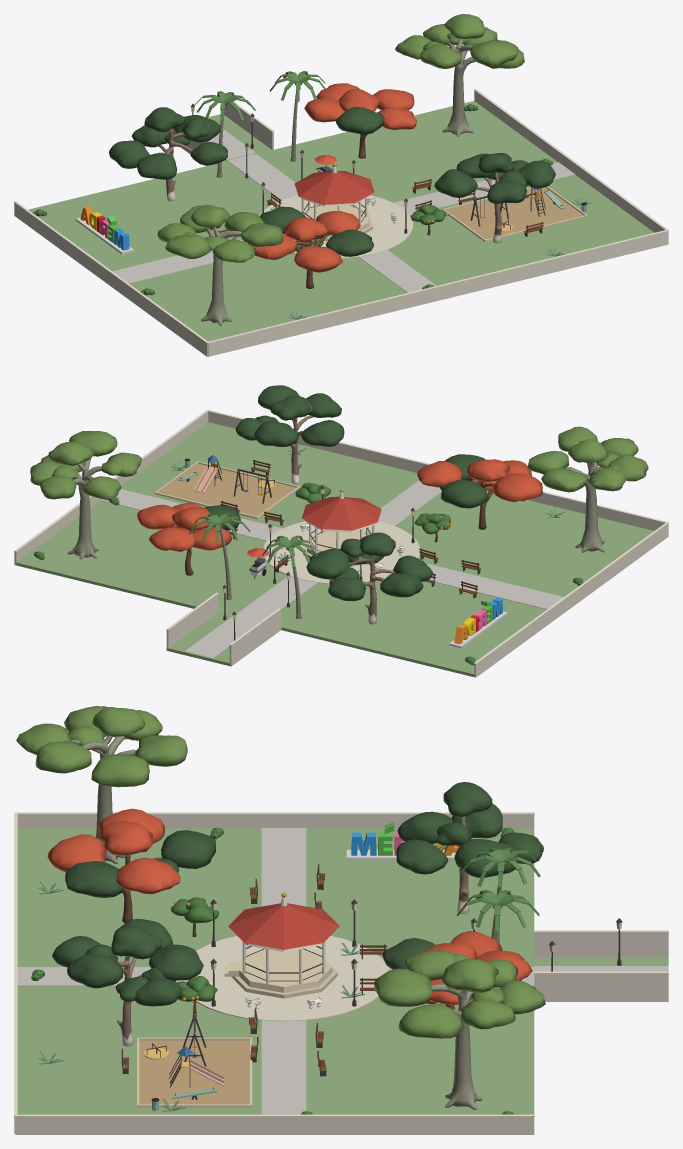
File: barrio_parque.glb
The picture shows the model from 3 angles, top to bottom: view 1: azimuth 30°, elevation 25°; view 2: azimuth 150°, elevation 25°; view 3: azimuth 270°, elevation 25°; orthographic projection. The views are drawn at different scales.
Visible parts, largest first — view 1: parque_pasto, parque_fachadas, parque_laurel_copa, parque_ceiba_copa, parque_flamboyan_copa, parque_andador, parque_arenero, parque_pasta, parque_palma_copa, parque_herreria, parque_greca, parque_naranjo_copa (+1 smaller); view 2: parque_pasto, parque_fachadas, parque_laurel_copa, parque_ceiba_copa, parque_flamboyan_copa, parque_andador, parque_arenero, parque_pasta, parque_herreria, parque_banqueta, parque_palma_copa, parque_naranjo_copa (+2 smaller); view 3: parque_pasto, parque_fachadas, parque_laurel_copa, parque_ceiba_copa, parque_andador, parque_flamboyan_copa, parque_pasta, parque_arenero, parque_herreria, parque_palma_copa, parque_naranjo_copa, parque_greca (+1 smaller).
Boxes of the visible parts, bbox=[...] form: parque_pasto: bbox=[28, 101, 654, 341]; parque_fachadas: bbox=[14, 39, 668, 356]; parque_laurel_copa: bbox=[109, 107, 555, 256]; parque_ceiba_copa: bbox=[157, 14, 524, 262]; parque_flamboyan_copa: bbox=[248, 83, 417, 272]; parque_andador: bbox=[112, 153, 575, 292]; parque_arenero: bbox=[446, 187, 583, 239]; parque_pasta: bbox=[259, 195, 413, 258]; parque_palma_copa: bbox=[195, 71, 326, 120]; parque_herreria: bbox=[190, 103, 562, 236]; parque_greca: bbox=[80, 206, 129, 250]; parque_naranjo_copa: bbox=[295, 204, 446, 251]; parque_pasto: bbox=[16, 422, 653, 676]; parque_fachadas: bbox=[14, 409, 668, 677]; parque_laurel_copa: bbox=[204, 385, 488, 601]; parque_ceiba_copa: bbox=[30, 426, 648, 500]; parque_flamboyan_copa: bbox=[137, 459, 542, 551]; parque_andador: bbox=[101, 480, 563, 620]; parque_arenero: bbox=[159, 463, 296, 516]; parque_pasta: bbox=[263, 521, 420, 584]; parque_herreria: bbox=[180, 460, 480, 640]; parque_banqueta: bbox=[184, 615, 260, 658]; parque_palma_copa: bbox=[189, 513, 317, 567]; parque_naranjo_copa: bbox=[295, 482, 450, 534]; parque_pasto: bbox=[17, 828, 668, 1114]; parque_fachadas: bbox=[14, 735, 668, 1134]; parque_laurel_copa: bbox=[52, 782, 543, 1006]; parque_ceiba_copa: bbox=[16, 706, 545, 1038]; parque_andador: bbox=[17, 828, 534, 1114]; parque_flamboyan_copa: bbox=[47, 808, 532, 1004]; parque_pasta: bbox=[179, 936, 388, 1021]; parque_arenero: bbox=[139, 1040, 249, 1104]; parque_herreria: bbox=[122, 864, 622, 1099]; parque_palma_copa: bbox=[456, 848, 540, 931]; parque_naranjo_copa: bbox=[171, 897, 219, 1001]; parque_greca: bbox=[351, 822, 459, 855].
Size of the model in its own units: 66.36 by 15.22 by 58.6.
